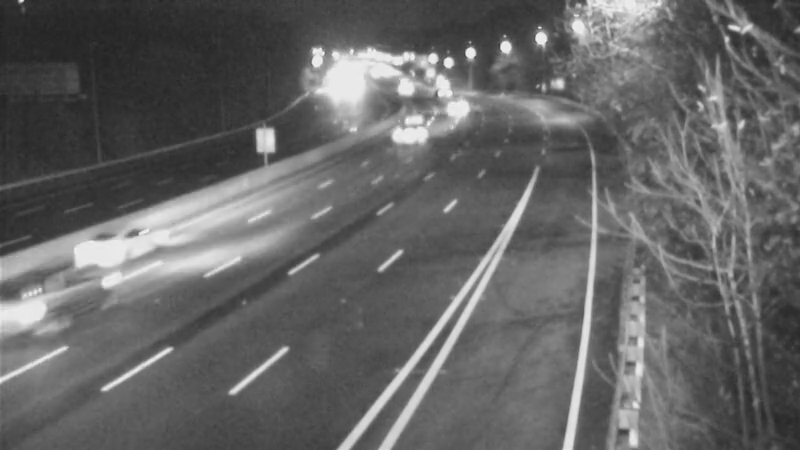vehicle: (1, 261, 95, 371), (61, 209, 141, 289), (438, 82, 488, 132), (391, 108, 441, 158)
